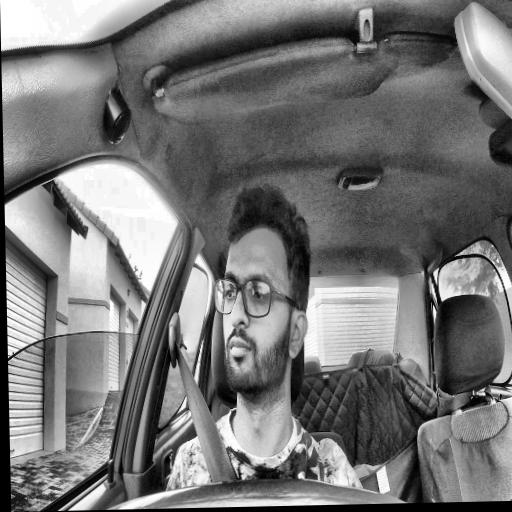awake: (211, 185, 314, 398)
